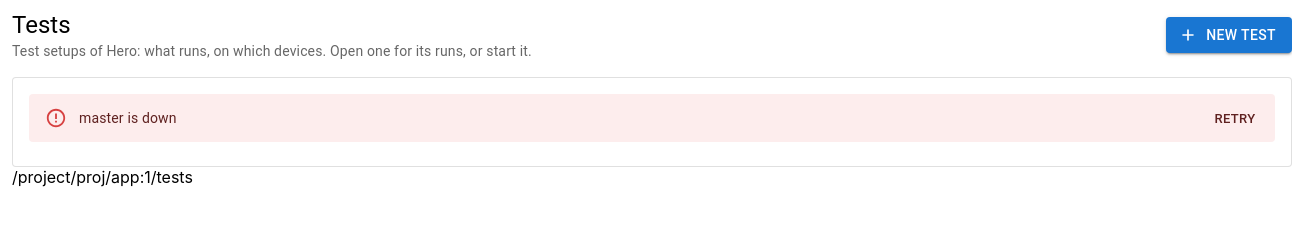
it: TestsIndexPage empty and error states › shows the load error and loads again on retry
This screenshot has width=1292, height=248.
Expected: the text "master is down" is shown, [79,110,177,126]
Click the button "Retry": (1235, 119) [1203,104,1267,135]
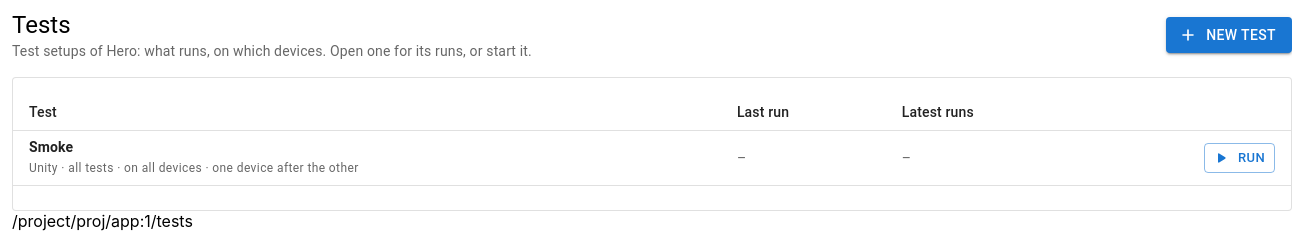
Result: the text "Smoke" is shown at [29,139,73,155]
